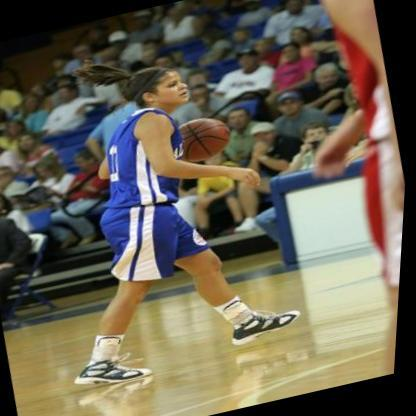basketball: (166, 111, 240, 169)
